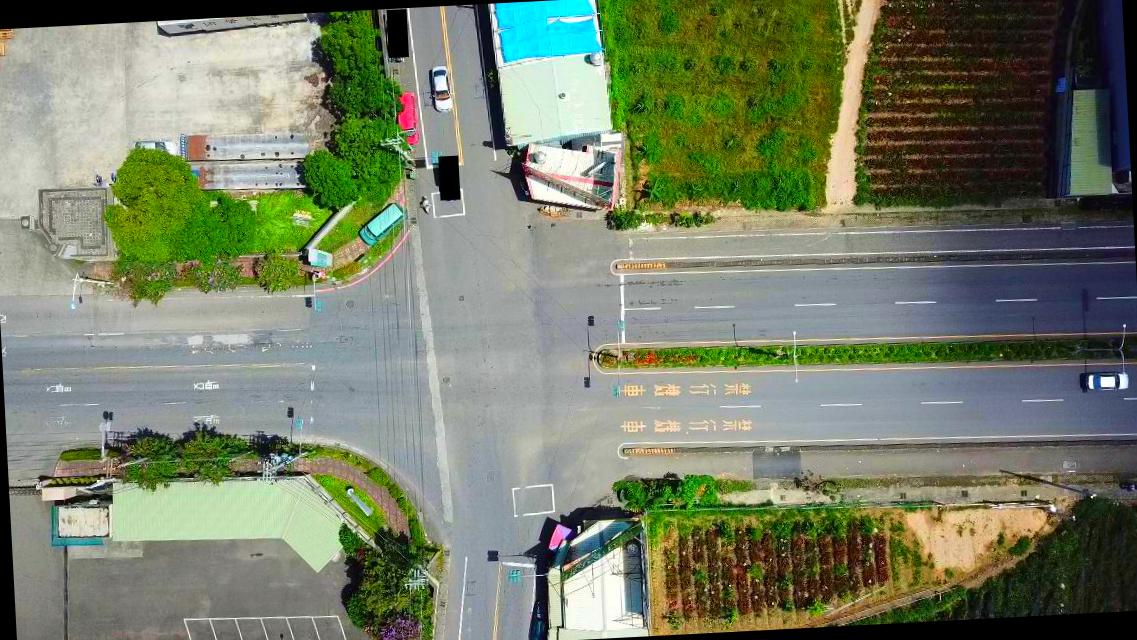vehicle: (356, 200, 406, 244), (131, 136, 178, 164), (427, 63, 452, 114), (397, 92, 418, 146), (1084, 368, 1128, 393), (528, 597, 550, 639)
